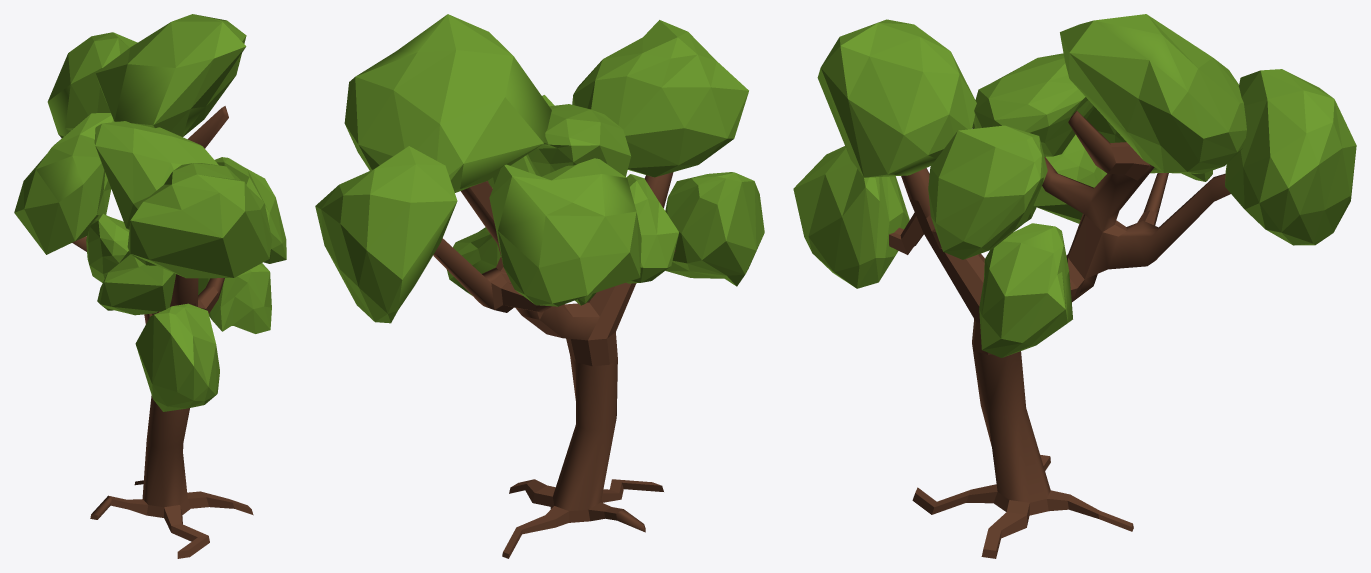
Rendered from biggreentree.dae.
3 views of the same model, side by side, from view 1: azimuth 30°, elevation 25°; view 2: azimuth 150°, elevation 25°; view 3: azimuth 270°, elevation 25° (orthographic). The views are drawn at different scales.
Visible parts, largest first — view 1: t1-green; view 2: t1-green; view 3: t1-green.
Boxes of the visible parts, x1,y1,x2,y2 form: t1-green: [14, 14, 286, 558]; t1-green: [315, 14, 764, 558]; t1-green: [793, 14, 1356, 558].
Bounding box in the file's own units: 6.3 × 10.81 × 11.63.
